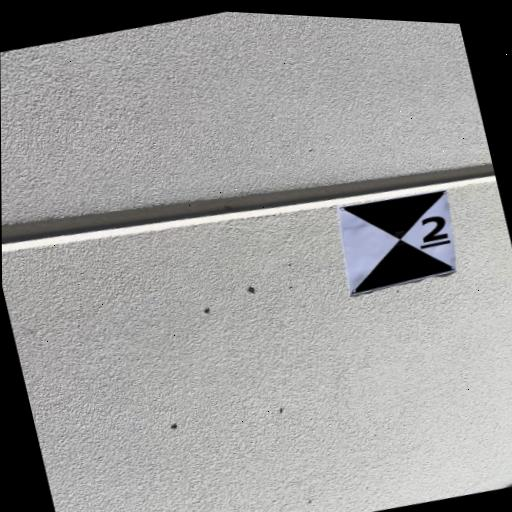target2: (340, 190, 457, 298)
